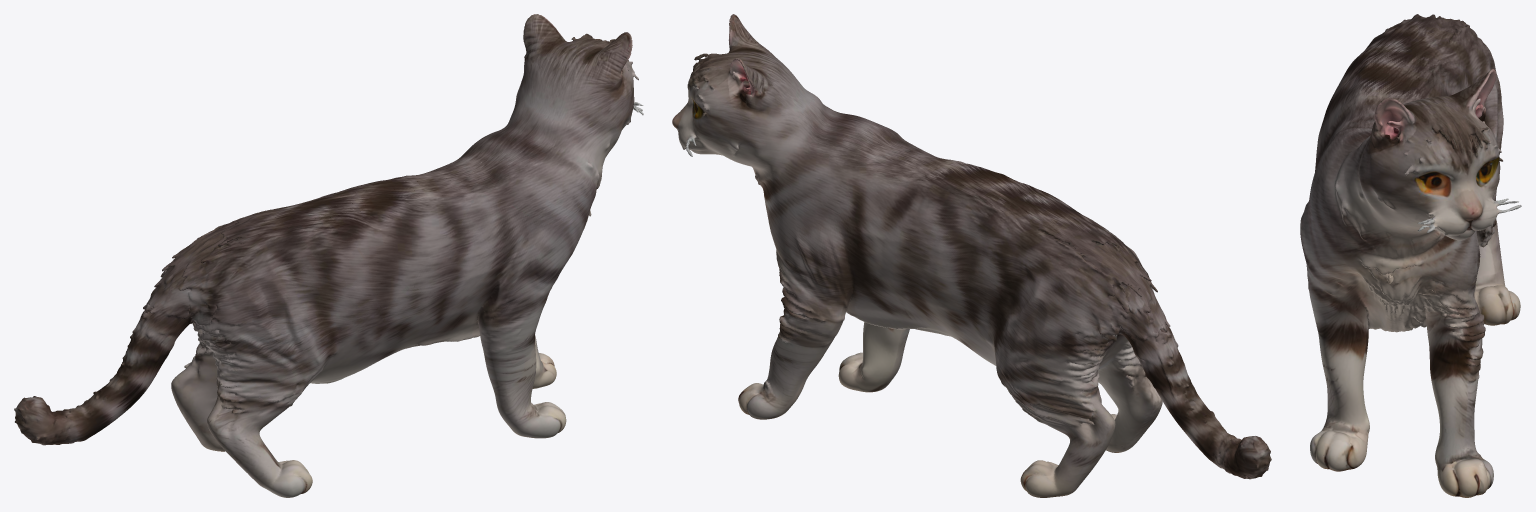
Rendered from cat_stand.glb.
3 views of the same model, side by side, from view 1: azimuth 30°, elevation 25°; view 2: azimuth 150°, elevation 25°; view 3: azimuth 270°, elevation 25° (orthographic). The views are drawn at different scales.
Parts seen in each view (by area): view 1: tripo_node_d0e7eca2-75ac-4632-86c3-37be31acb600; view 2: tripo_node_d0e7eca2-75ac-4632-86c3-37be31acb600; view 3: tripo_node_d0e7eca2-75ac-4632-86c3-37be31acb600.
Boxes of the visible parts, x1,y1,x2,y2 form: tripo_node_d0e7eca2-75ac-4632-86c3-37be31acb600: (14,14,643,497); tripo_node_d0e7eca2-75ac-4632-86c3-37be31acb600: (672,14,1271,497); tripo_node_d0e7eca2-75ac-4632-86c3-37be31acb600: (1300,14,1521,497).
Bounding box in the file's own units: 0.9999 × 0.5659 × 0.265.
1 material, 1 textured.
